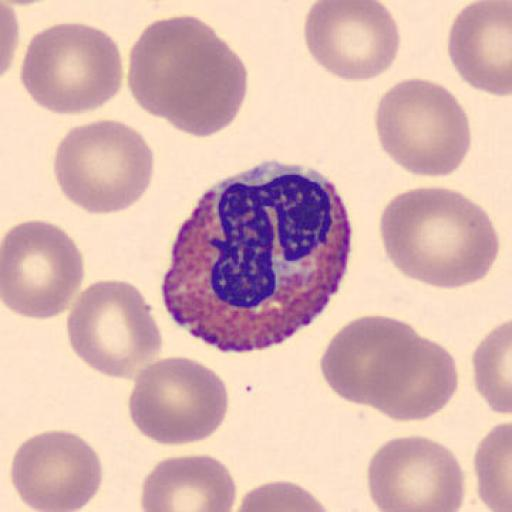RBC: (125, 12, 249, 140), (318, 312, 457, 422), (378, 183, 501, 291), (372, 76, 471, 179), (319, 313, 422, 412), (20, 20, 124, 118), (50, 118, 154, 216), (65, 279, 163, 380), (126, 355, 230, 448), (2, 219, 86, 320), (302, 0, 402, 83), (368, 334, 460, 422), (366, 433, 466, 512), (10, 429, 104, 512), (446, 0, 512, 97), (139, 451, 238, 512), (471, 316, 512, 420), (472, 417, 512, 512), (232, 478, 337, 512), (0, 0, 21, 86), (0, 0, 64, 6)
WBC: (162, 159, 354, 354)
